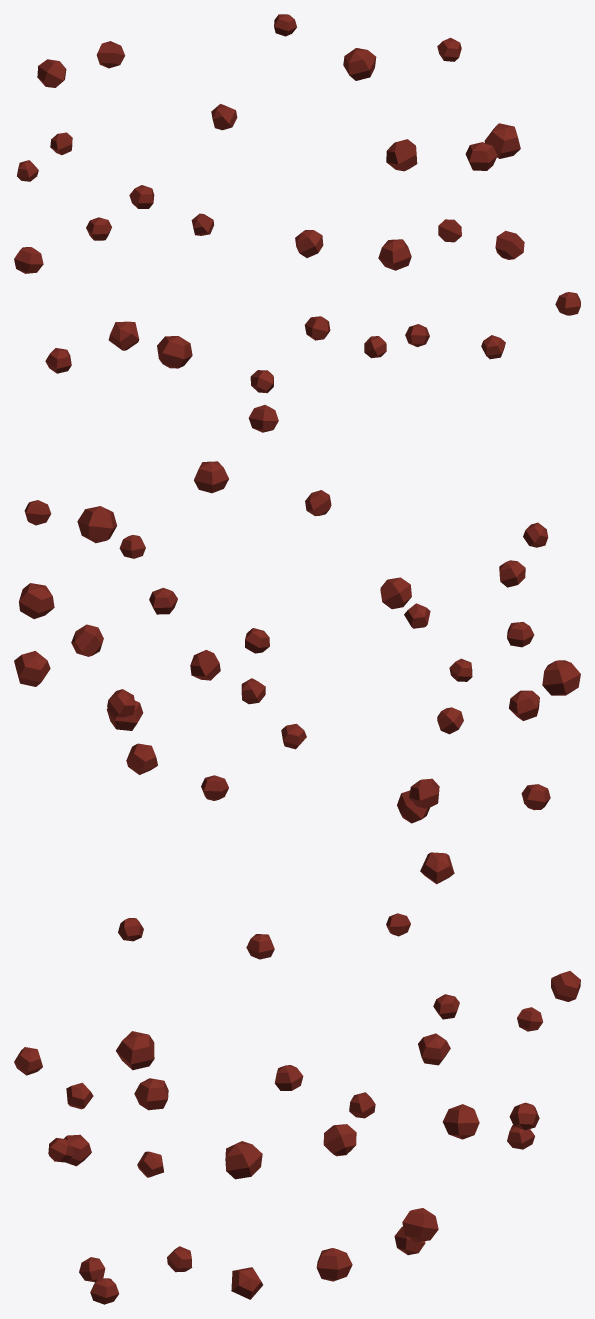
Rendered from SM_Env_Tree_Fruit_Fruit_01.glb.
The picture shows the model from 3 angles, top to bottom: view 1: azimuth 30°, elevation 25°; view 2: azimuth 150°, elevation 25°; view 3: azimuth 270°, elevation 25°; orthographic projection. The views are drawn at different scales.
Visible parts, largest first — view 1: SM_Env_Tree_Fruit_Fruit_01; view 2: SM_Env_Tree_Fruit_Fruit_01; view 3: SM_Env_Tree_Fruit_Fruit_01.
Boxes of the visible parts, left/top/right/bottom form: SM_Env_Tree_Fruit_Fruit_01: left=14, top=14, right=580, bottom=432; SM_Env_Tree_Fruit_Fruit_01: left=14, top=461, right=580, bottom=823; SM_Env_Tree_Fruit_Fruit_01: left=14, top=852, right=580, bottom=1304.
Bounding box in the file's own units: 4.56 × 2.52 × 4.49.
1 material, 1 textured.
